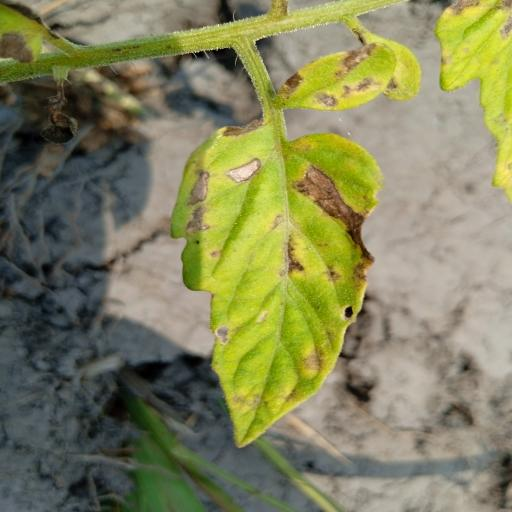Tomato_Brown_Spots: (162, 106, 388, 452)
